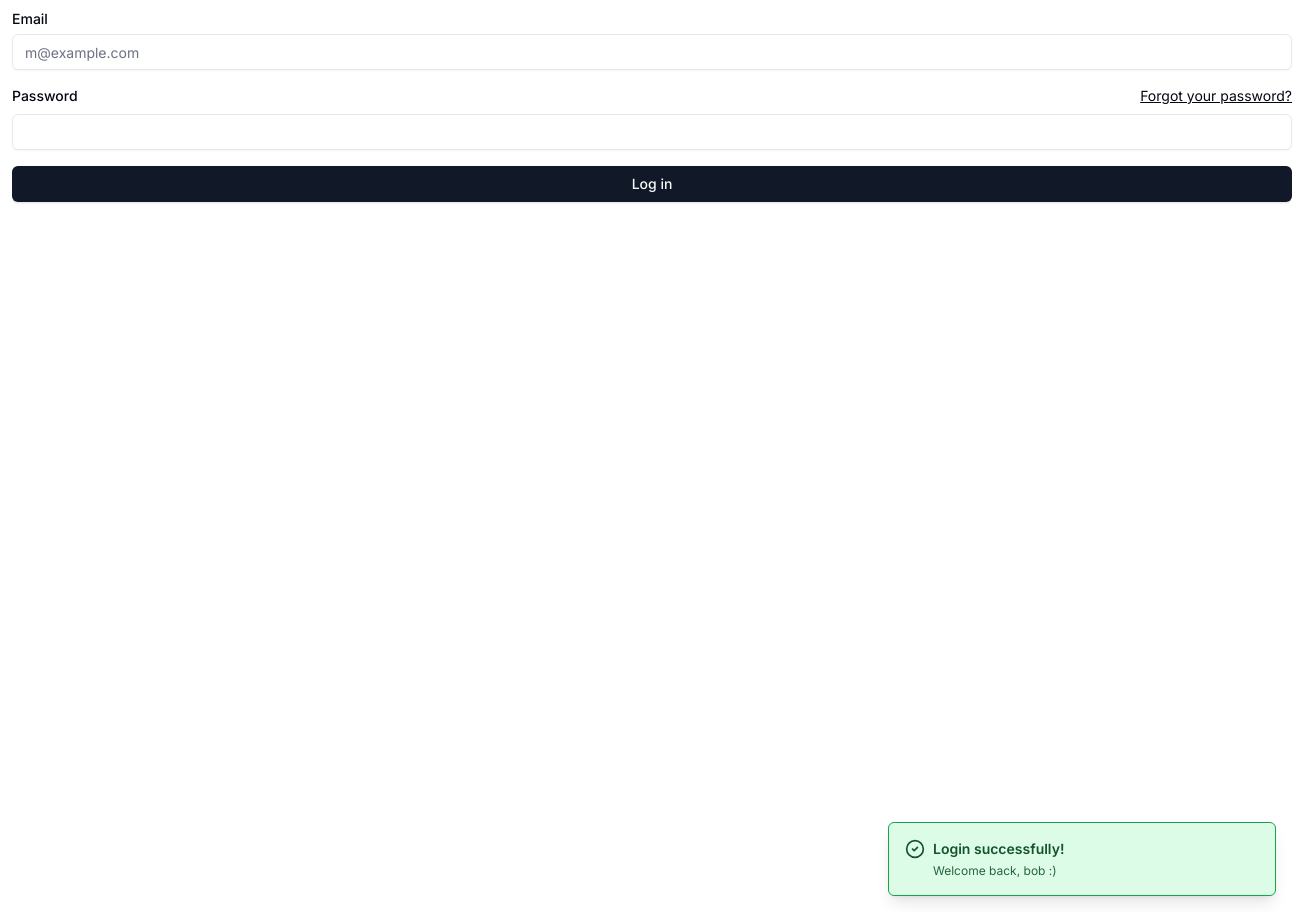
Scenario: validation is successful › and log in is not successful › should display error alert if email or password is incorrect
This screenshot has width=1304, height=912.
Step 1. Type "bob@bob.com" into the field labelled "Email" → (652, 52), box [12,34,1292,70]
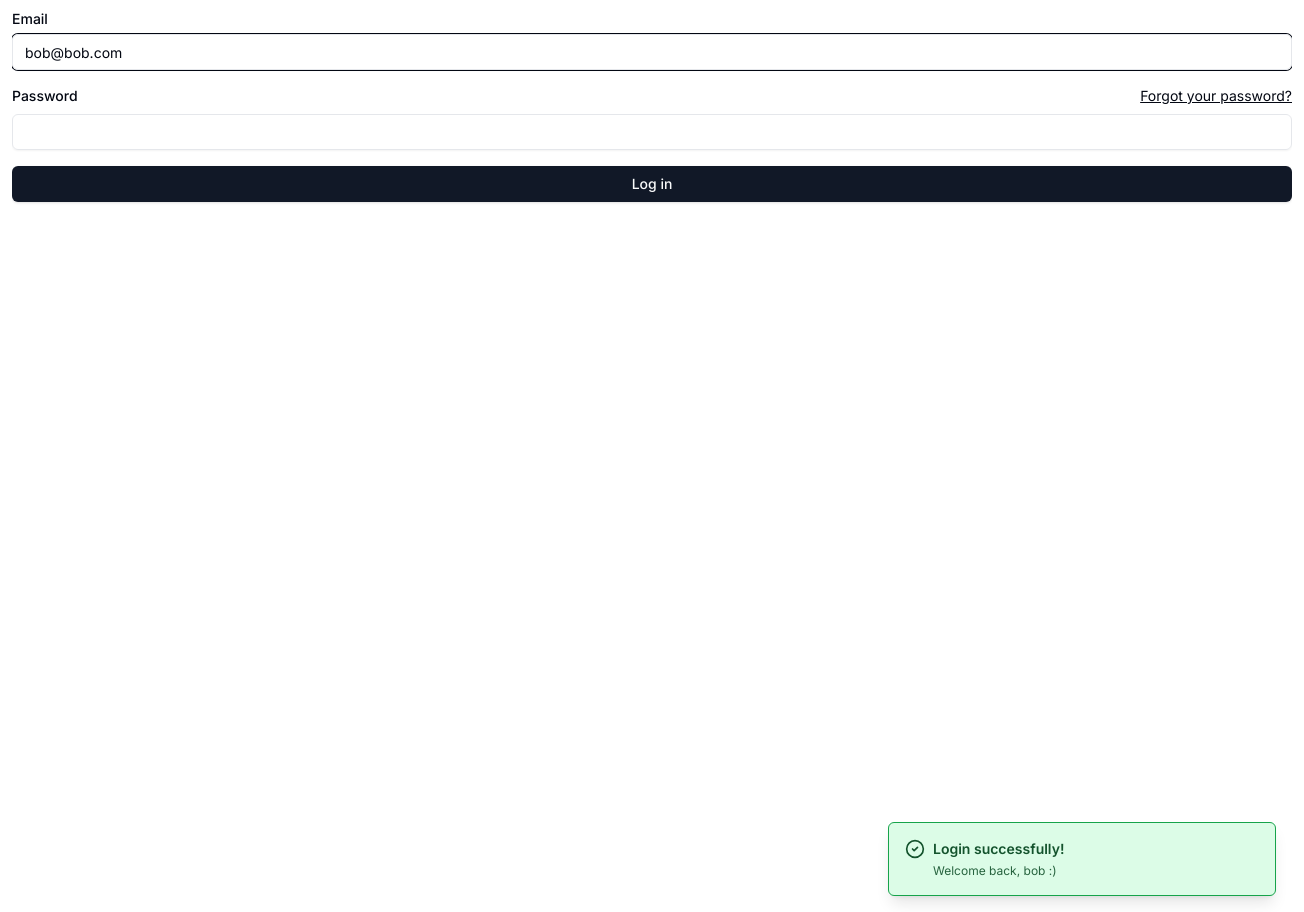
Step 2. Type "123" into the password field labelled "Password" → (652, 132), box [12,114,1292,150]
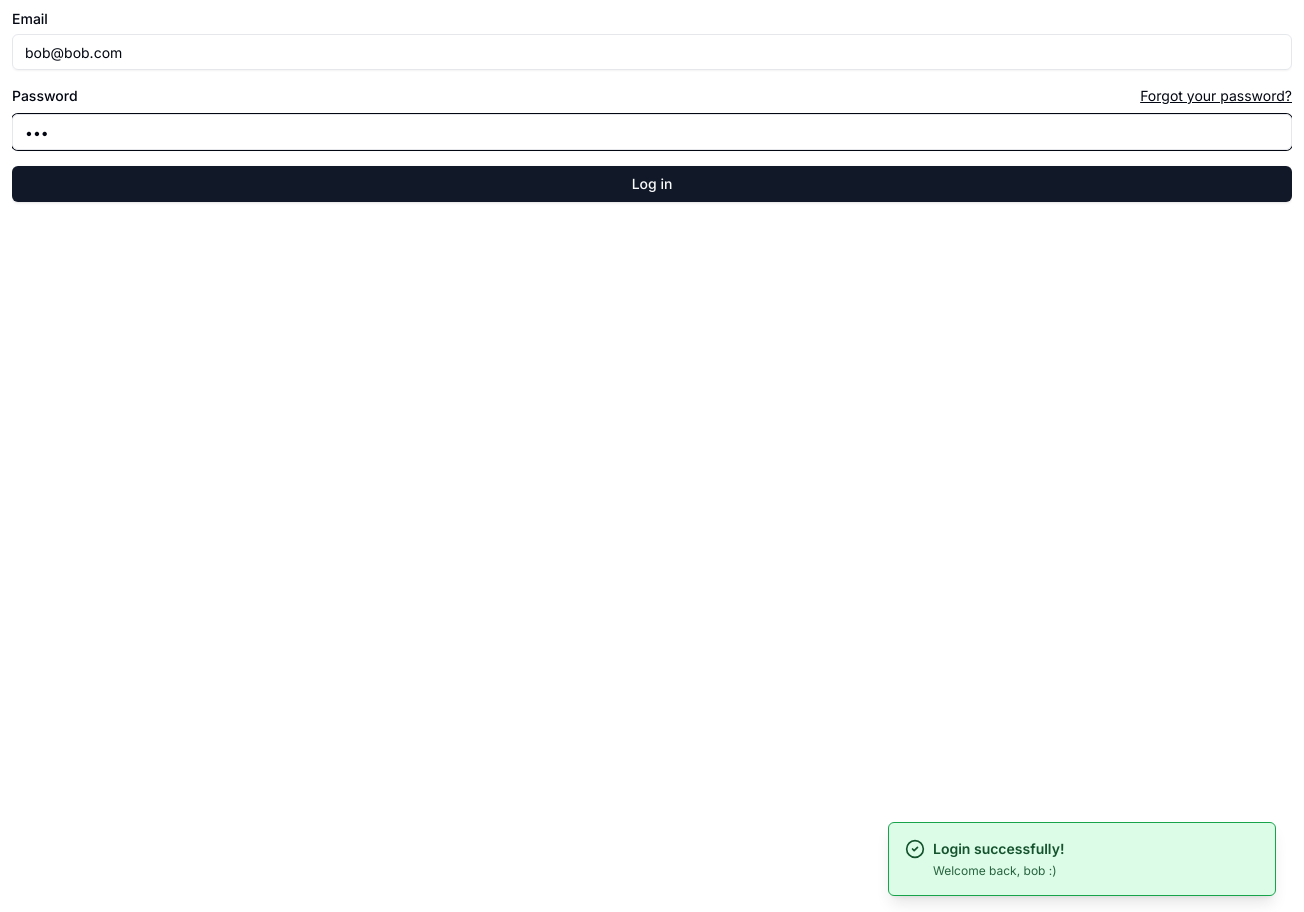
Step 3. Click the button "Log in" → (652, 184), box [12,166,1292,202]
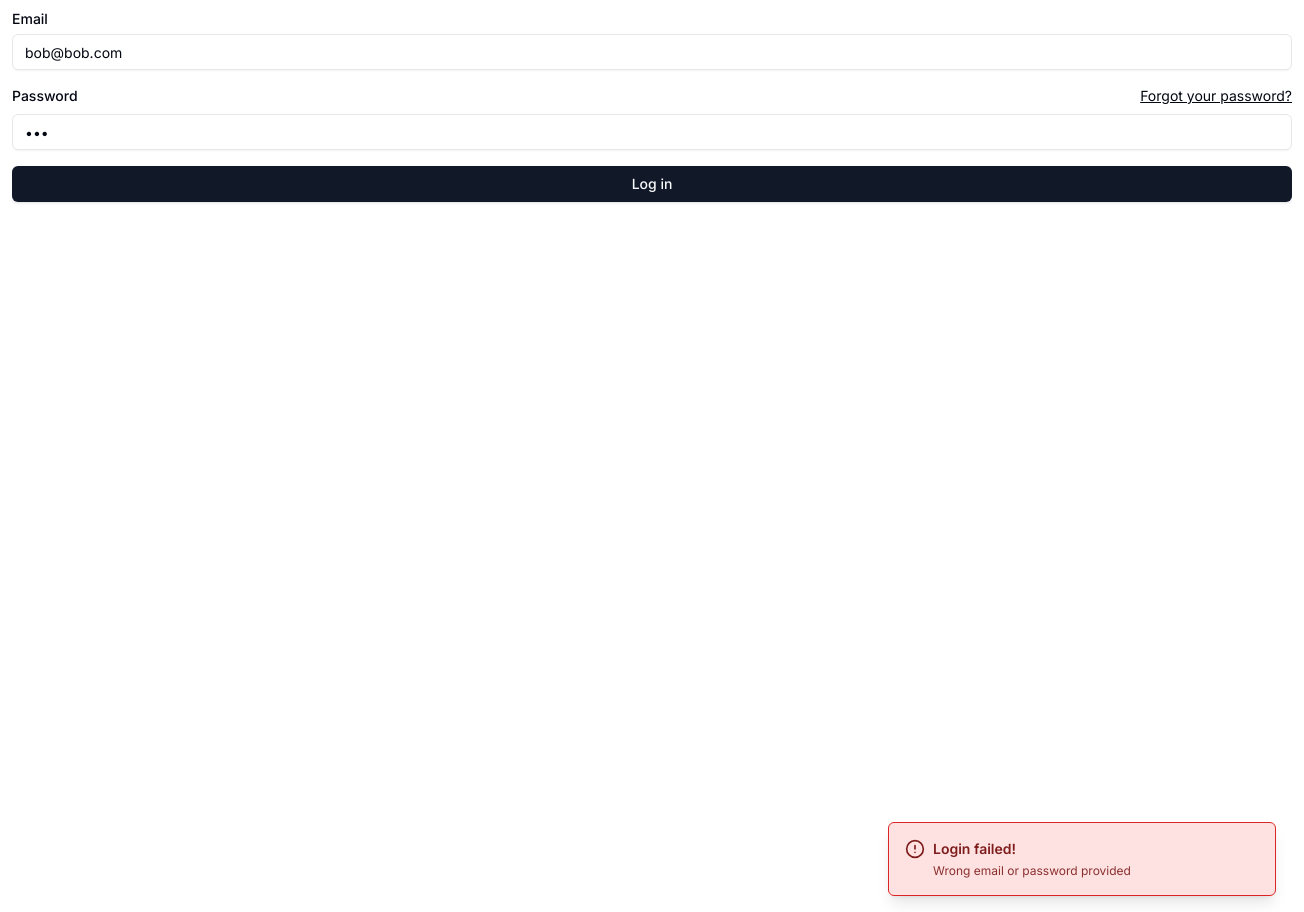
Now the text "Login failed!" is shown, box [933,840,1016,857]
Now the text "Wrong email or password provided" is shown, box [933,863,1131,879]
